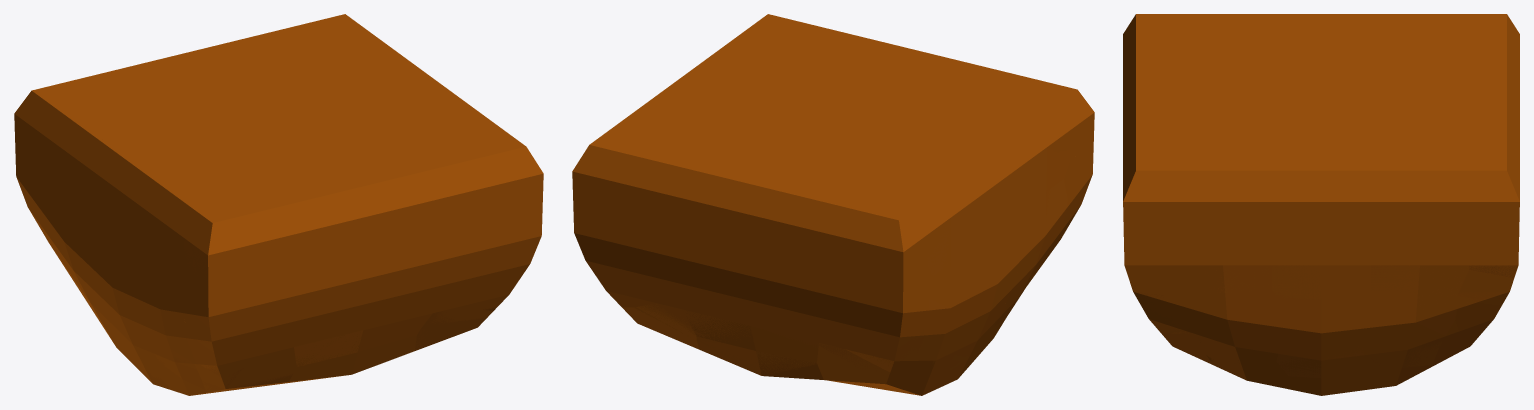
The model's file is PlataformaDestrutiva.fbx.
The picture shows the model from 3 angles, left to right: view 1: azimuth 30°, elevation 25°; view 2: azimuth 150°, elevation 25°; view 3: azimuth 270°, elevation 25°; orthographic projection. The views are drawn at different scales.
Parts seen in each view (by area): view 1: Plataforma, Plataforma_cell.070, Plataforma_cell.075, Plataforma_cell.077, Plataforma_cell.061, Plataforma_cell.066, Plataforma_cell.058, Plataforma_cell.024, Plataforma_cell.074, Plataforma_cell.059, Plataforma_cell.056, Plataforma_cell.010 (+20 smaller); view 2: Plataforma, Plataforma_cell.075, Plataforma_cell.077, Plataforma_cell.074, Plataforma_cell.052, Plataforma_cell.058, Plataforma_cell.065, Plataforma_cell.050, Plataforma_cell.059, Plataforma_cell.056, Plataforma_cell.027, Plataforma_cell.069 (+12 smaller); view 3: Plataforma, Plataforma_cell.075, Plataforma_cell.077, Plataforma_cell.028, Plataforma_cell.043, Plataforma_cell.056, Plataforma_cell.059, Plataforma_cell.074, Plataforma_cell.009, Plataforma_cell.048, Plataforma_cell.058, Plataforma_cell.050 (+17 smaller).
Boxes of the visible parts, x1,y1,x2,y2 form: Plataforma: [14, 34, 543, 395]; Plataforma_cell.070: [292, 226, 458, 308]; Plataforma_cell.075: [178, 83, 379, 153]; Plataforma_cell.077: [133, 50, 334, 120]; Plataforma_cell.061: [291, 184, 459, 265]; Plataforma_cell.066: [293, 299, 439, 366]; Plataforma_cell.058: [52, 88, 177, 160]; Plataforma_cell.024: [179, 265, 291, 328]; Plataforma_cell.074: [110, 33, 288, 87]; Plataforma_cell.059: [290, 30, 412, 82]; Plataforma_cell.056: [380, 97, 503, 148]; Plataforma_cell.010: [87, 154, 138, 250]; Plataforma: [572, 14, 1094, 395]; Plataforma_cell.075: [734, 82, 932, 152]; Plataforma_cell.077: [689, 115, 887, 184]; Plataforma_cell.074: [664, 147, 843, 215]; Plataforma_cell.052: [817, 185, 926, 253]; Plataforma_cell.058: [844, 152, 972, 208]; Plataforma_cell.065: [686, 303, 819, 362]; Plataforma_cell.050: [581, 128, 688, 191]; Plataforma_cell.059: [612, 96, 732, 147]; Plataforma_cell.056: [701, 30, 822, 81]; Plataforma_cell.027: [820, 261, 903, 324]; Plataforma_cell.069: [656, 223, 820, 296]; Plataforma: [1123, 14, 1519, 395]; Plataforma_cell.075: [1275, 53, 1367, 131]; Plataforma_cell.077: [1368, 53, 1460, 131]; Plataforma_cell.028: [1272, 233, 1370, 299]; Plataforma_cell.043: [1371, 178, 1470, 233]; Plataforma_cell.056: [1182, 131, 1274, 195]; Plataforma_cell.059: [1368, 131, 1460, 195]; Plataforma_cell.074: [1460, 53, 1513, 143]; Plataforma_cell.009: [1272, 186, 1370, 233]; Plataforma_cell.048: [1371, 233, 1468, 294]; Plataforma_cell.058: [1368, 14, 1460, 52]; Plataforma_cell.050: [1460, 131, 1519, 202].
Size of the model in its own units: 317 by 223 by 317.
